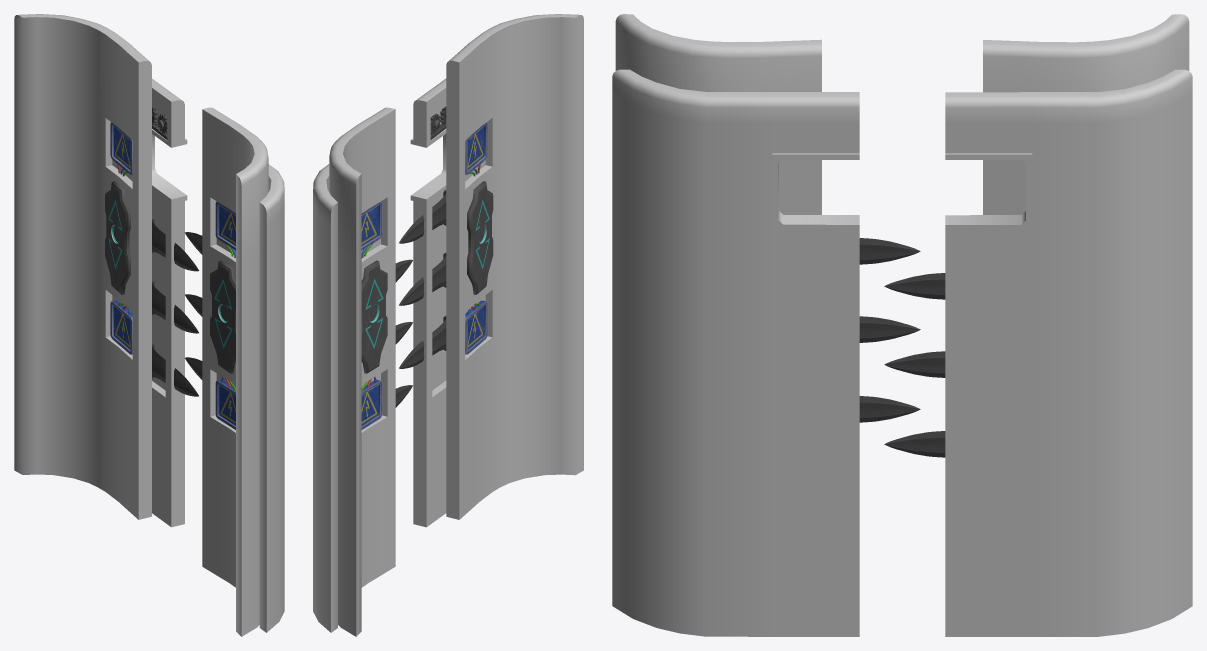
Rendered from Double Shield.fbx.
3 renders of one model, left to right at view 1: azimuth 30°, elevation 25°; view 2: azimuth 150°, elevation 25°; view 3: azimuth 270°, elevation 25°, orthographic. The views are drawn at different scales.
Parts seen in each view (by area): view 1: MainPlate+SidePlate; view 2: MainPlate+SidePlate; view 3: MainPlate+SidePlate.
Part boxes in pixels (box(x1,y1,x2,y2)): MainPlate+SidePlate: box(14, 14, 284, 636); MainPlate+SidePlate: box(313, 14, 583, 636); MainPlate+SidePlate: box(612, 14, 1192, 636).
Size of the model in its own units: 34.9 by 200 by 182.
